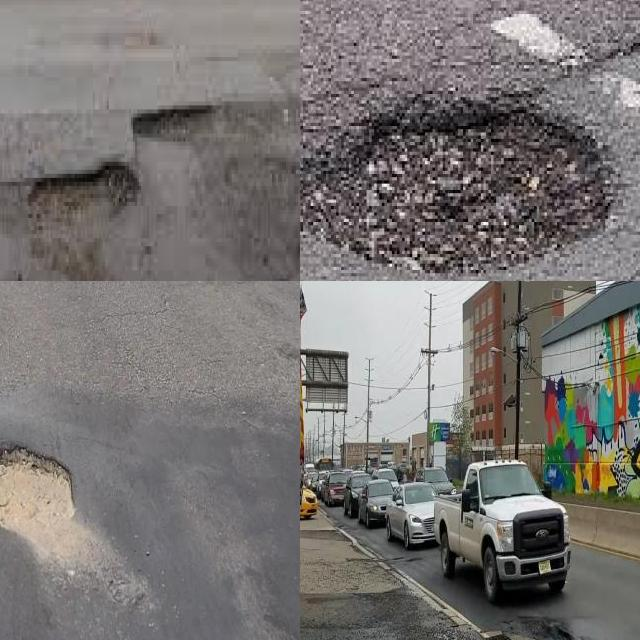Pothole: (300, 106, 617, 277), (0, 438, 80, 560), (495, 615, 576, 640), (511, 617, 574, 640), (402, 552, 428, 566)
